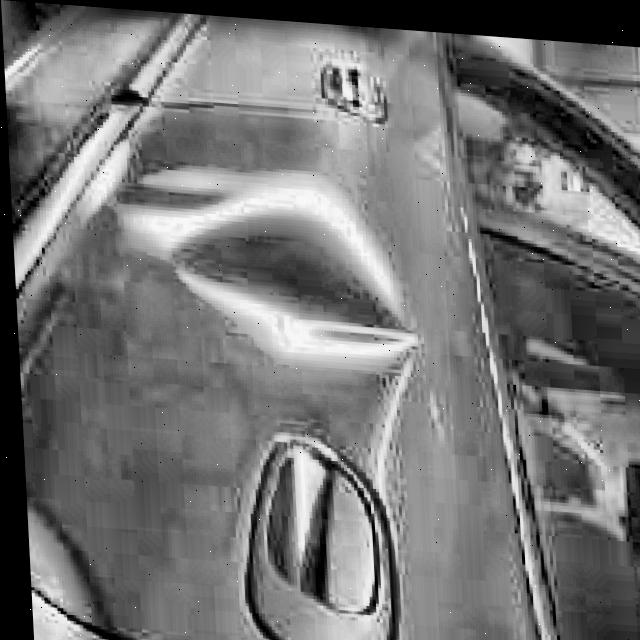door_dent: (161, 212, 414, 374)
